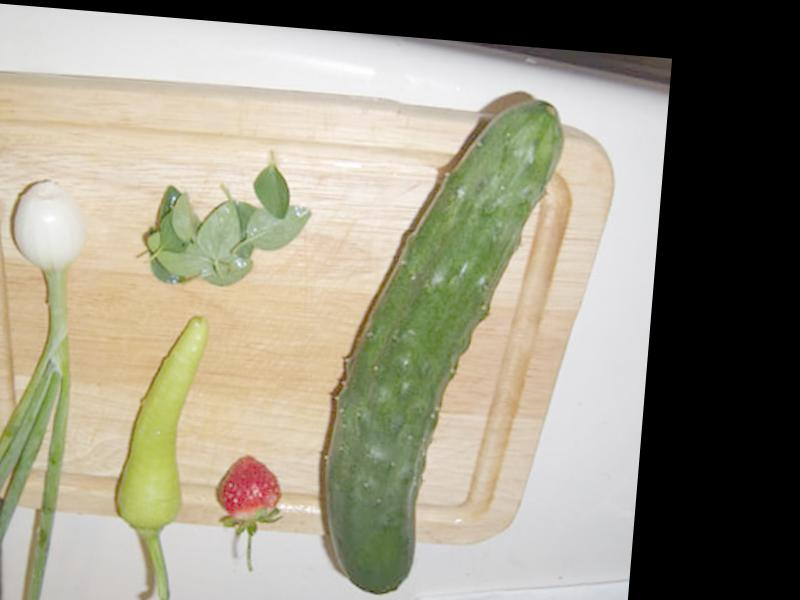Cucumber: (314, 85, 566, 600)
